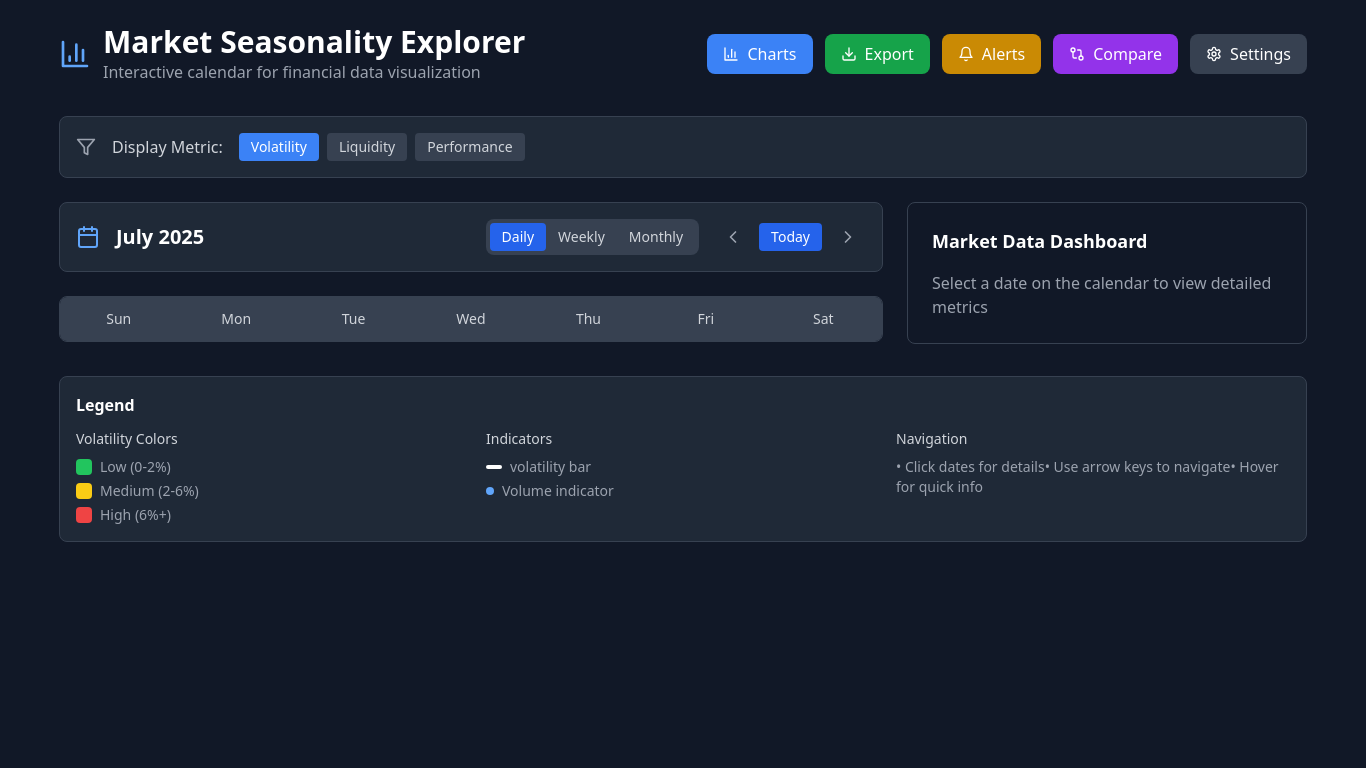
App › should open settings modal when settings button is clicked
Click the button "Settings" at (1249,54), box [1190,34,1307,74]
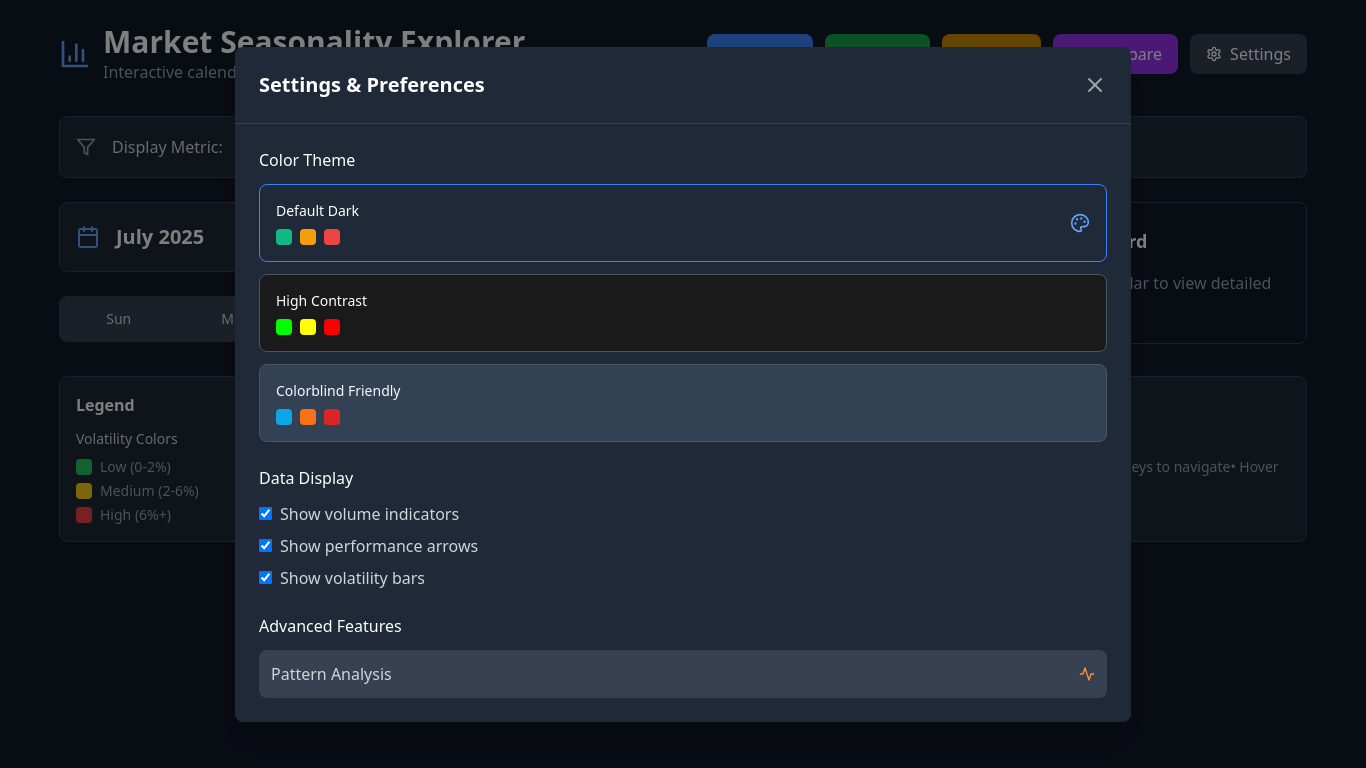
expect the heading "Settings & Preferences" is shown: met, box [259,70,485,98]
